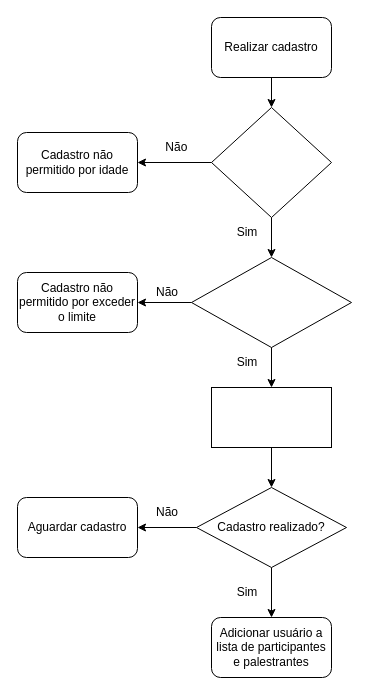
Some shapes in this 369 by 695 pixel diagram are drawn without their labels. The box of each missing label's shape, as (x1, y1, x2, y2) in pixels:
A quantidade de participantes é inferior a 100?: (190, 256, 352, 348)
O participante tem mais de 18 anos?: (210, 106, 332, 218)
Permitir cadastro: (210, 386, 332, 448)
